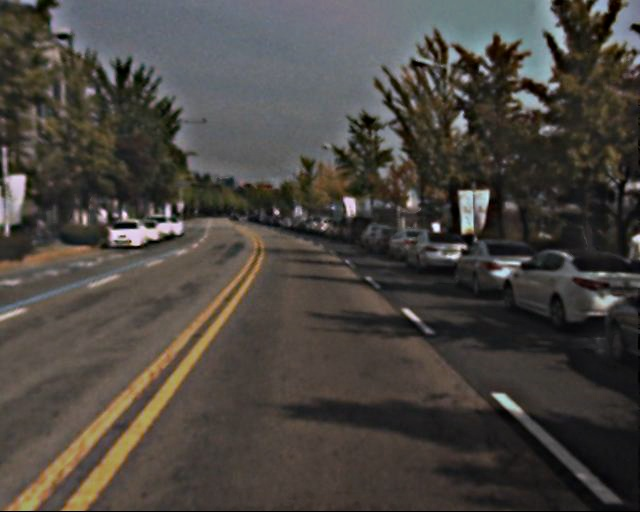person: (581, 223, 612, 290), (615, 220, 640, 298)
